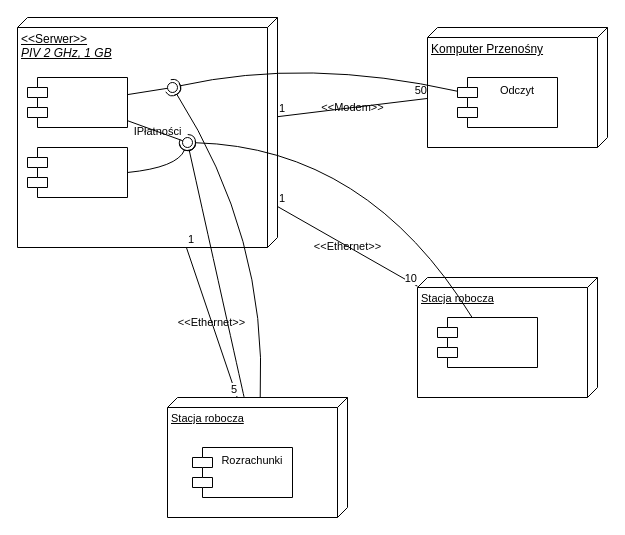
This 625x535 diagram has some shape labels left out. Here are the shapes that lost their labels. From the top down, the centre of each, then its label:
At point (77, 102): "Baza rozliczenia <<DB>>".
At point (77, 172): "Rozliczenie użycia".
At point (487, 342): "Rozliczenie koszów".
